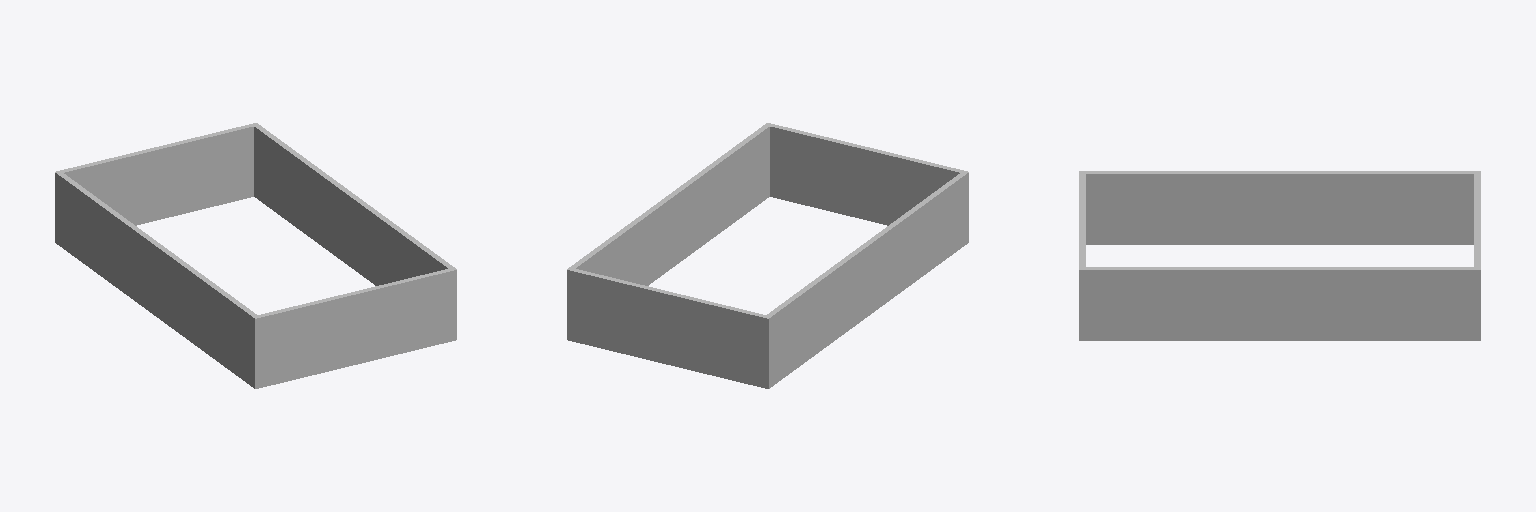
File: Arena Walls.obj
3 renders of one model, left to right at view 1: azimuth 30°, elevation 25°; view 2: azimuth 150°, elevation 25°; view 3: azimuth 270°, elevation 25°, orthographic.
Visible parts, largest first — view 1: Mtl; view 2: Mtl; view 3: Mtl.
Part boxes in pixels (x1,y1,x2,y2): Mtl: (55, 123, 456, 388); Mtl: (567, 123, 968, 388); Mtl: (1079, 171, 1480, 340).
Size of the model in its own units: 18 by 6 by 31.